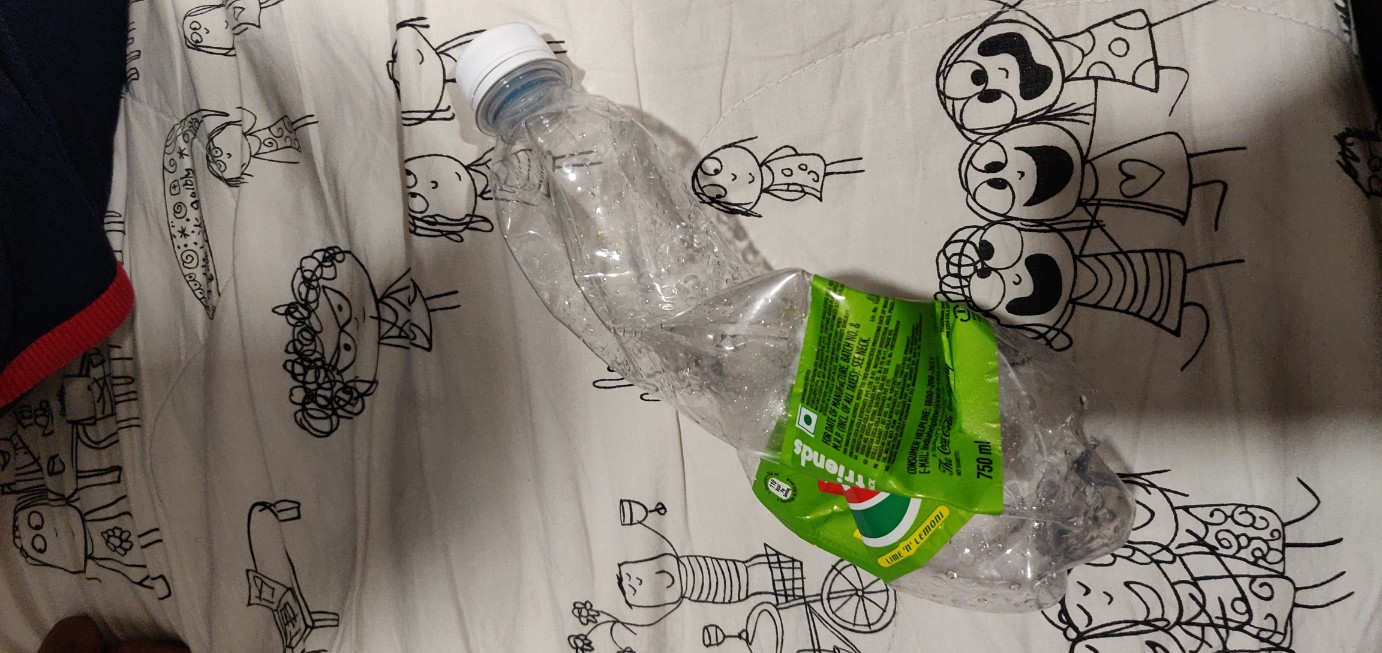Electronics: (422, 13, 1220, 631)
